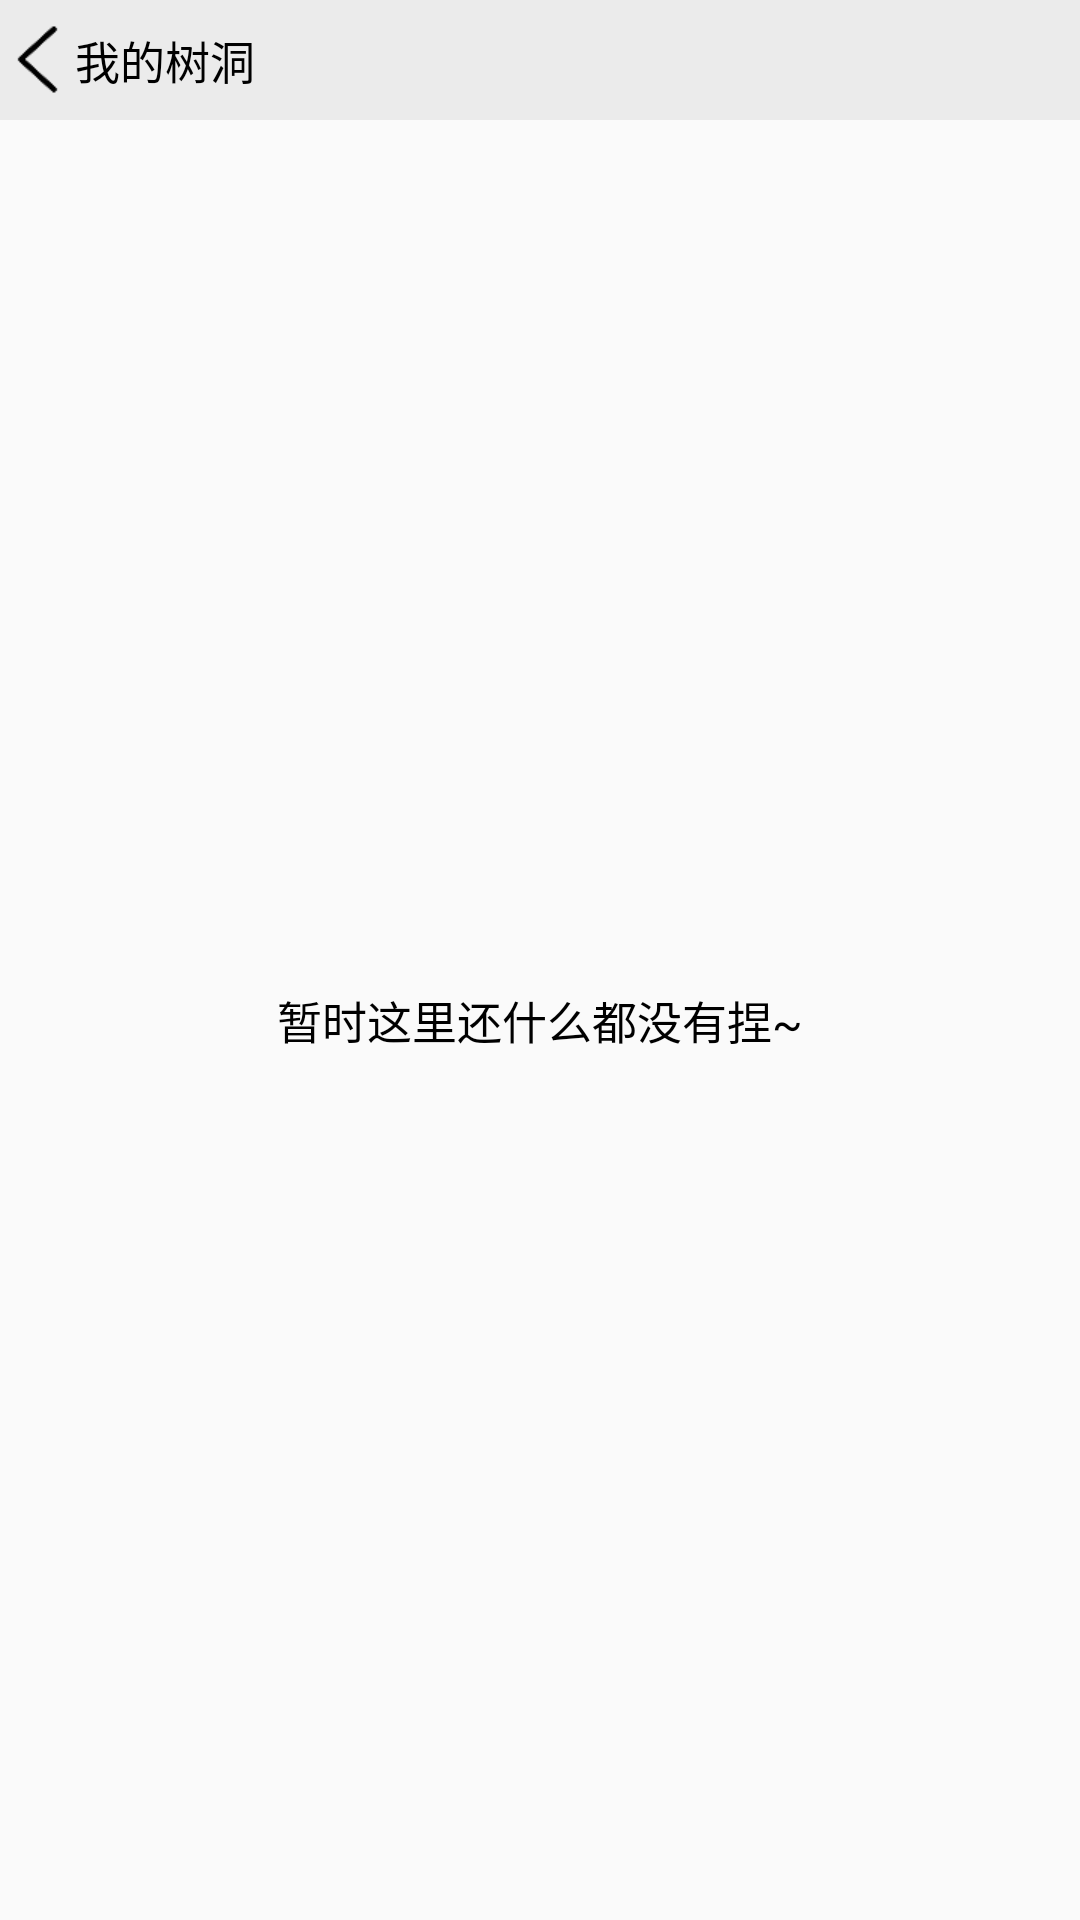

Screen size 1080w x 1920h. Icon name, then its center in pixels as [x,y]:
back: [37,59]
